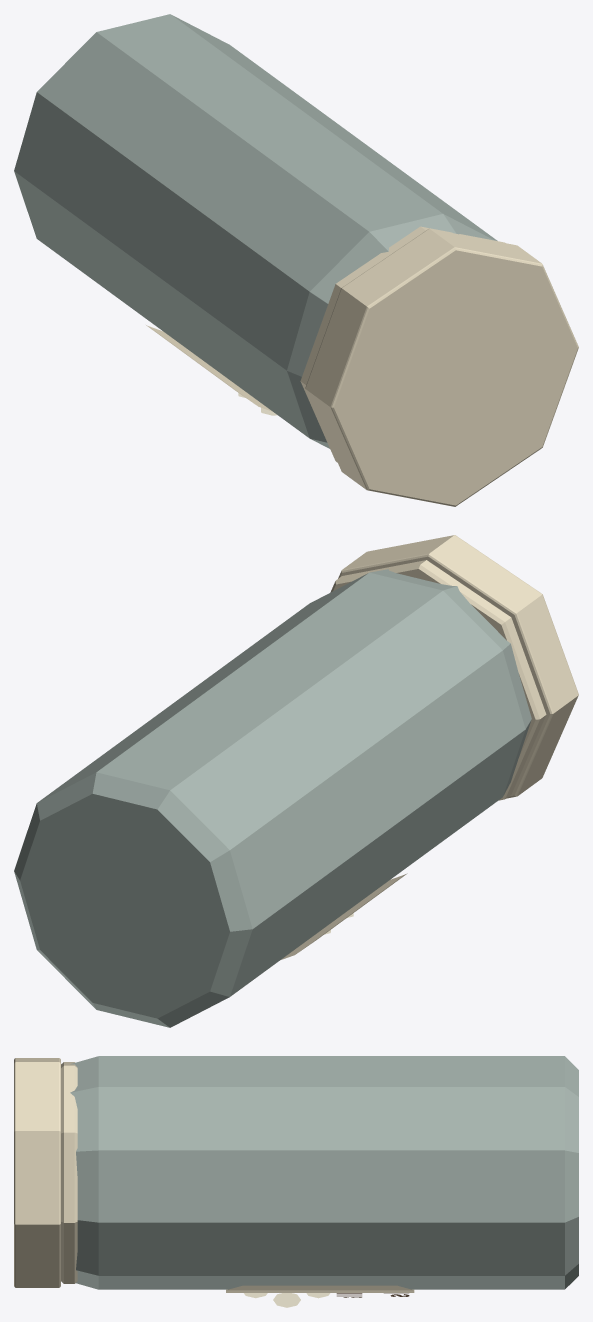
File: vanilla_pods.glb
3 views of the same model, one above another, from view 1: azimuth 30°, elevation 25°; view 2: azimuth 150°, elevation 25°; view 3: azimuth 270°, elevation 25° (orthographic). The views are drawn at different scales.
Visible parts, largest first — view 1: vanilla_pods; view 2: vanilla_pods; view 3: vanilla_pods.
Boxes of the visible parts, x1,y1,x2,y2 form: vanilla_pods: (14, 14, 578, 506); vanilla_pods: (14, 535, 578, 1027); vanilla_pods: (14, 1056, 578, 1307).
Bounding box in the file's own units: 0.052 × 0.053 × 0.12.
